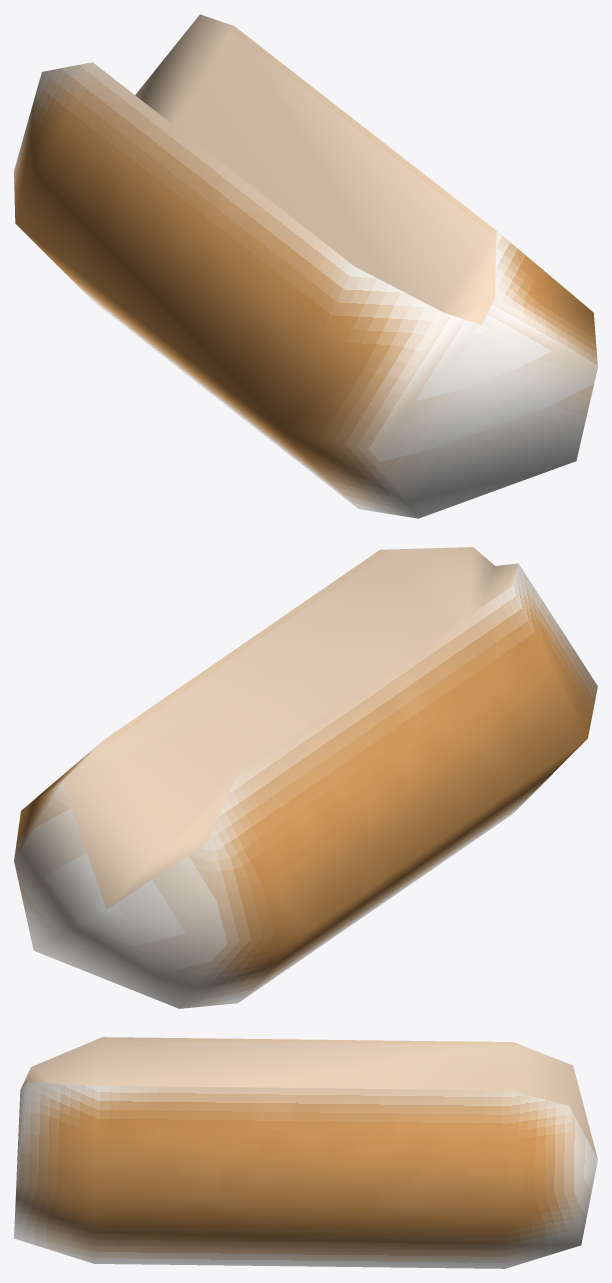
The model's file is HotdogBun.fbx.
3 views of the same model, one above another, from view 1: azimuth 30°, elevation 25°; view 2: azimuth 150°, elevation 25°; view 3: azimuth 270°, elevation 25° (orthographic). The views are drawn at different scales.
Visible parts, largest first — view 1: H_HotDogEvolved; view 2: H_HotDogEvolved; view 3: H_HotDogEvolved.
Part boxes in pixels (box(x1,y1,x2,y2)): H_HotDogEvolved: box(14, 14, 597, 518); H_HotDogEvolved: box(14, 547, 597, 1008); H_HotDogEvolved: box(14, 1037, 597, 1268).
Size of the model in its own units: 16.28 by 11.71 by 33.99.
